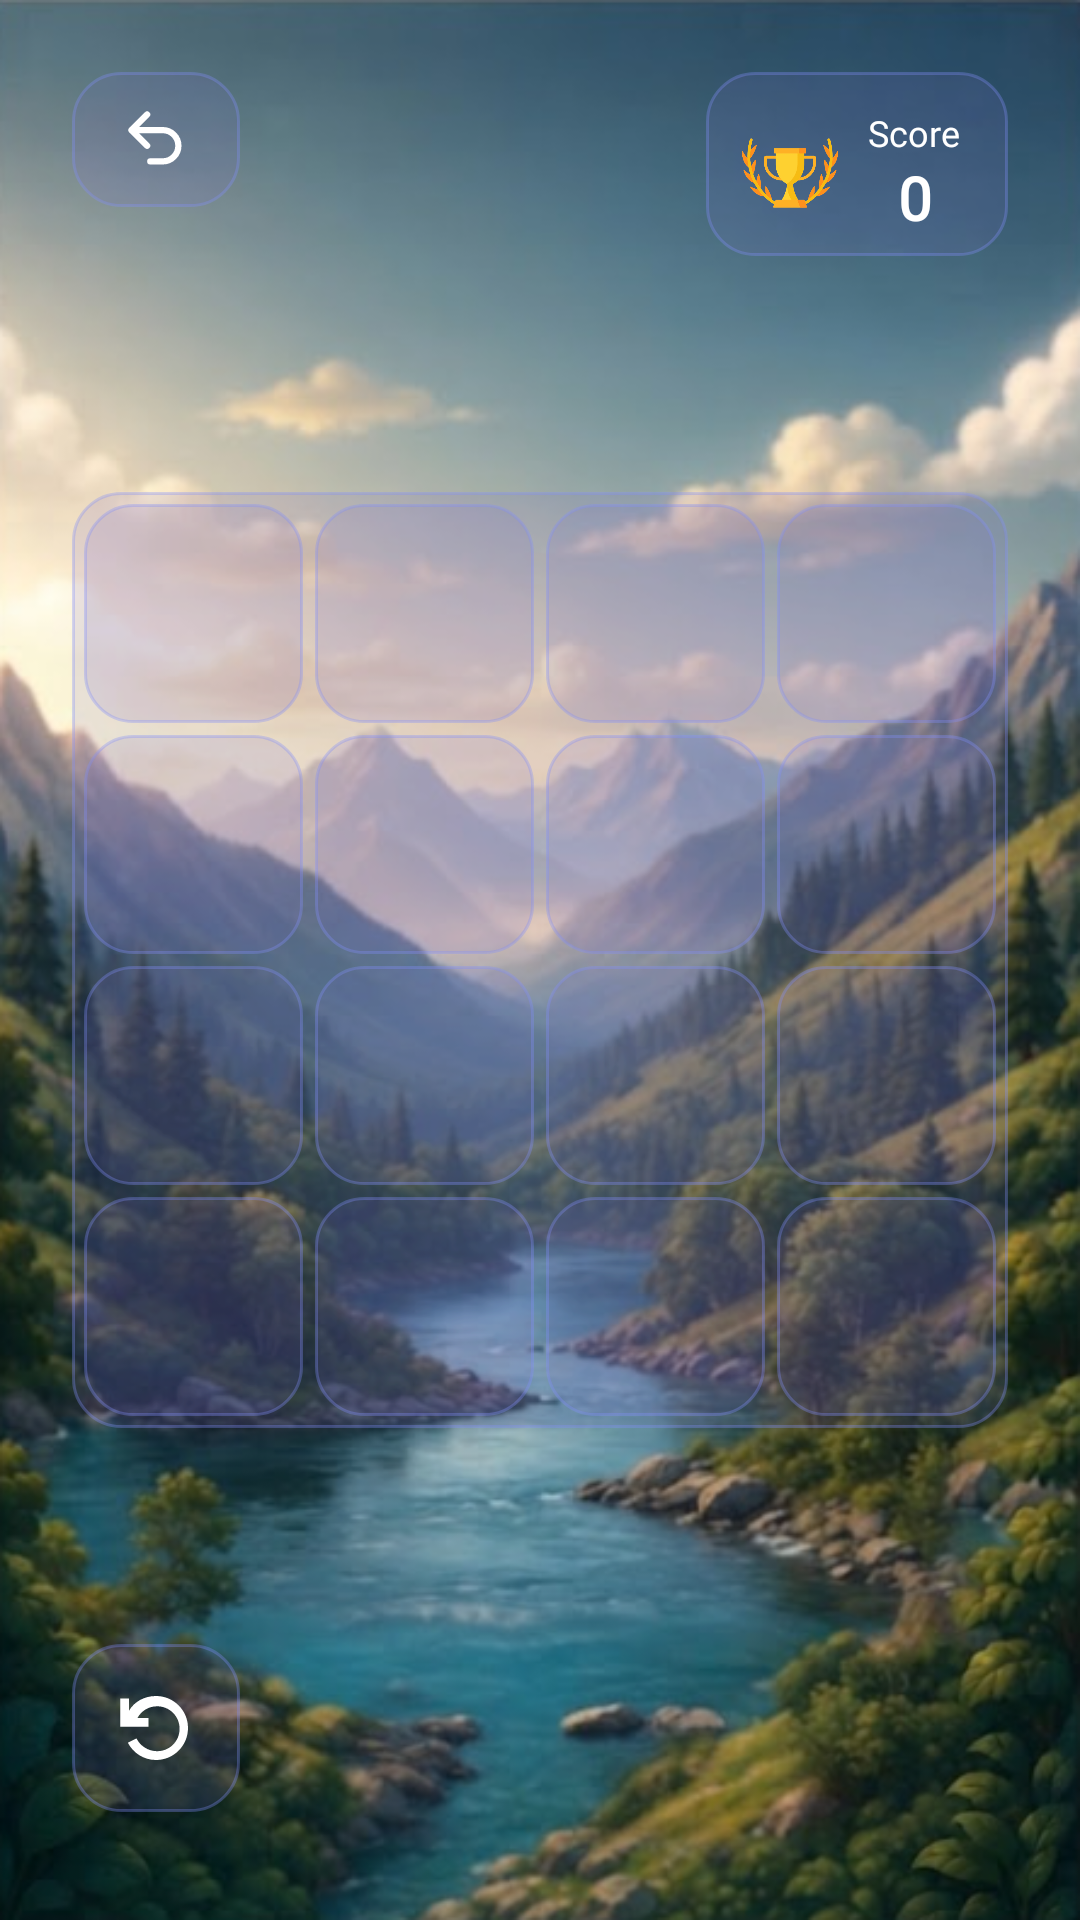

Point at icon controls on the screen. Image size 1080px x 1920px, points as [x,y].
Back: [156,139]
Restart: [156,1728]
Trophy: [790,173]
